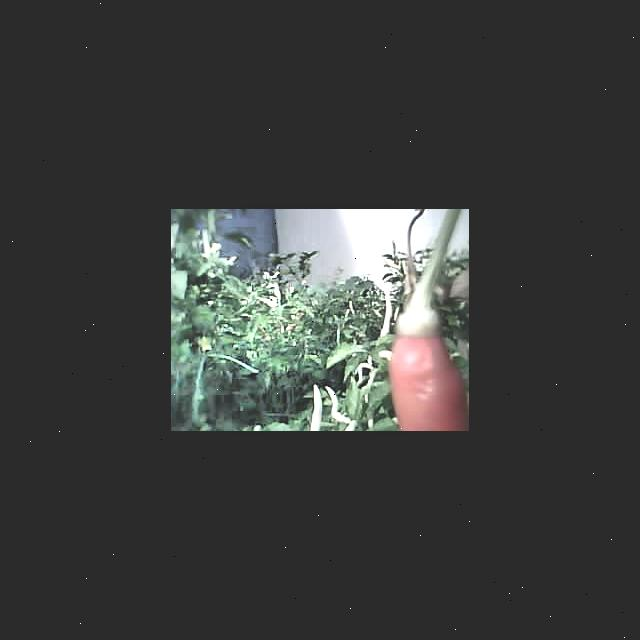Cabai: (389, 326, 467, 431)
